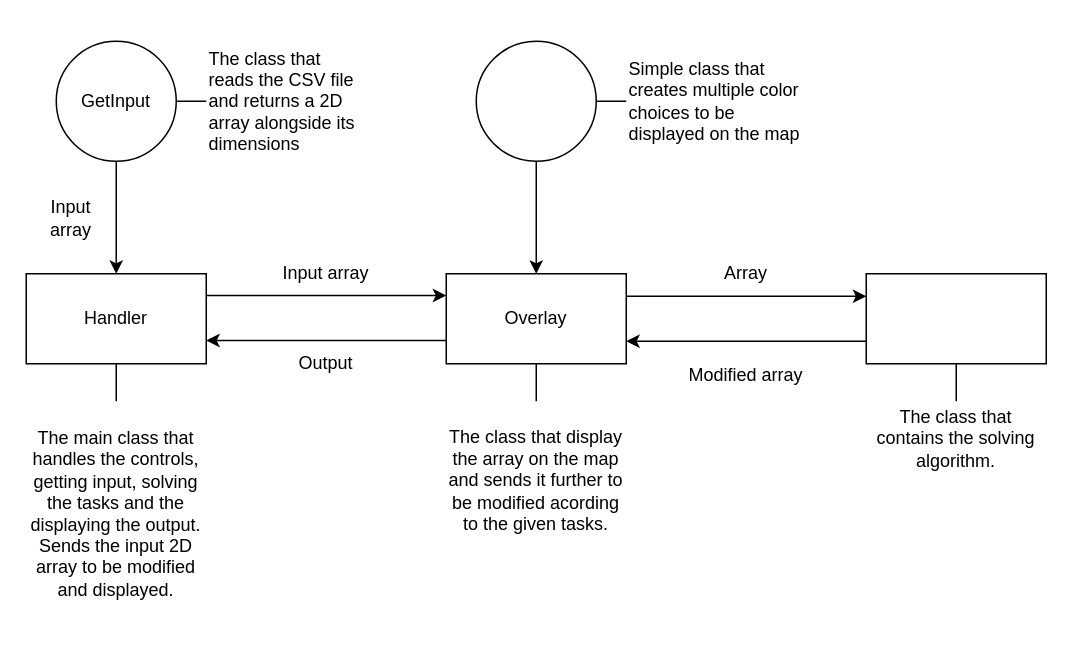
Image size: 1073x651. Some labels were removed from this diagram. Each missing label, with the centre of its shape:
Algorithm: point (955, 318)
Style: point (535, 100)
